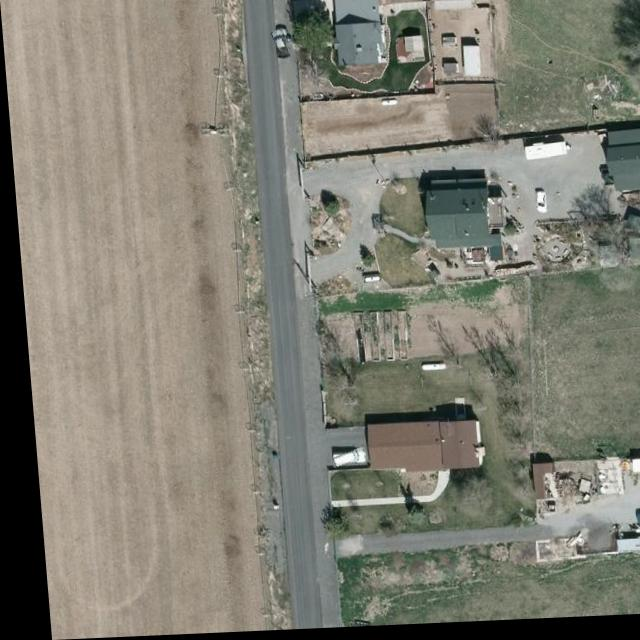vehicle: (322, 452, 359, 469), (272, 30, 291, 62), (530, 196, 545, 219), (627, 516, 640, 530)
